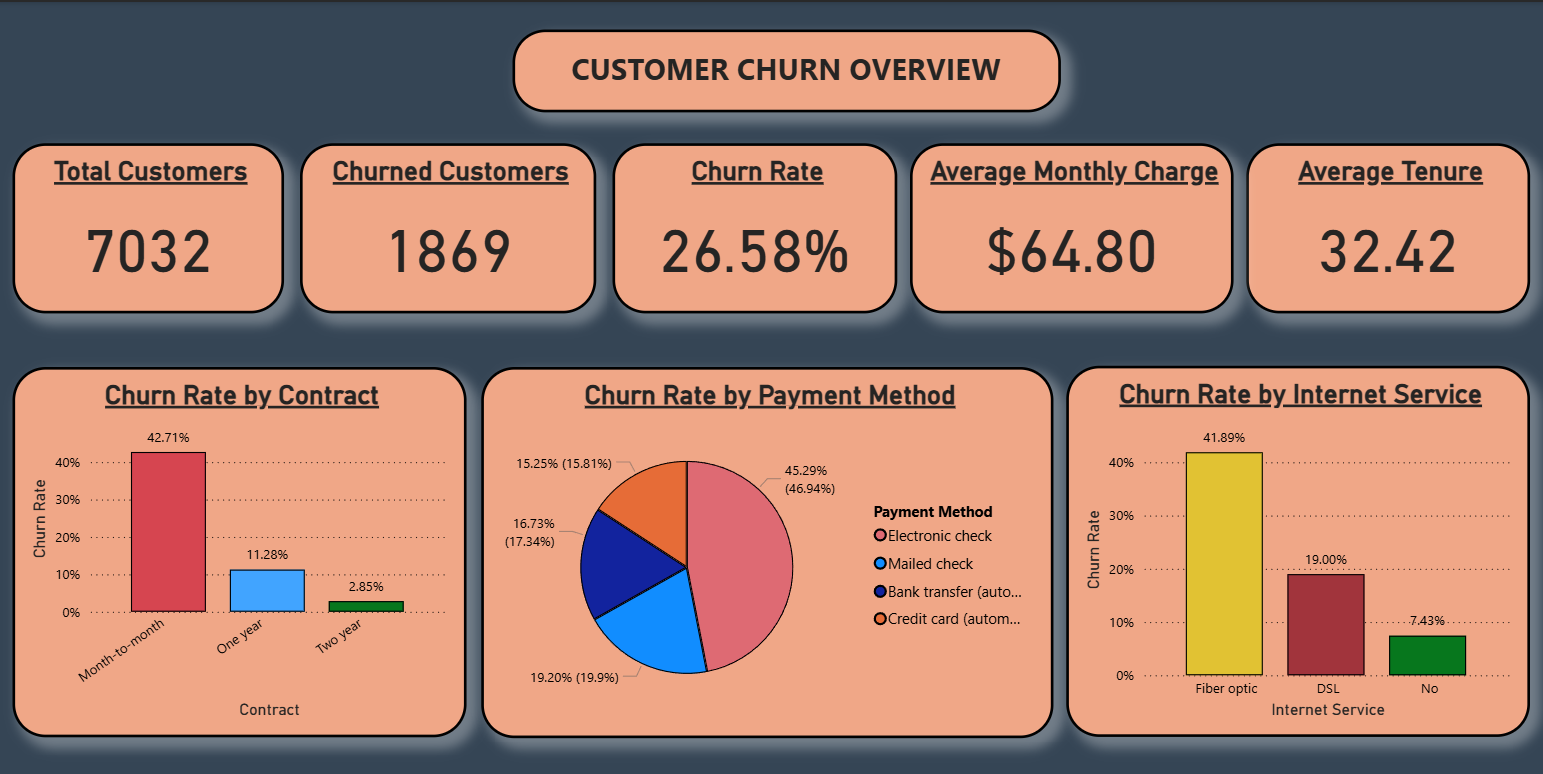

The dashboard page shown, as its layout file describes it:
{"tool":"powerbi","page":{"name":"Customer Churn Overview","canvas":[1400,720],"ordinal":0},"visuals":[{"type":"card","title":"Total Customers","fields":{"Values":["CountNonNull(telco_churn_for_powerbi.Churn_Actual)"]},"box":[11.3,128.3,246.1,154.3],"z":0},{"type":"card","title":"Churned Customers","fields":{"Values":["Sum(telco_churn_for_powerbi.Churn_Actual)"]},"box":[272.2,128.3,268.8,154.3],"z":1000},{"type":"card","title":"Churn Rate","fields":{"Values":["telco_churn_for_powerbi.overallchurnrate"]},"box":[555.8,128.3,258.6,154.3],"z":2000},{"type":"columnChart","title":"Churn Rate by Contract","fields":{"Category":["telco_churn_for_powerbi.Contract"],"Y":["telco_churn_for_powerbi.overallchurnrate"]},"box":[11,331.7,411.8,336.1],"z":3000},{"type":"pieChart","title":"Churn Rate by Payment Method","fields":{"Category":["telco_churn_for_powerbi.PaymentMethod"],"Y":["telco_churn_for_powerbi.overallchurnrate"]},"box":[436.7,331.2,519.5,336.9],"z":4000},{"type":"clusteredColumnChart","title":"Churn Rate by Internet Service","fields":{"Y":["telco_churn_for_powerbi.overallchurnrate"],"Category":["telco_churn_for_powerbi.InternetService"]},"box":[967.5,330.1,420.8,336.9],"z":5000},{"type":"card","title":"Average Tenure","fields":{"Values":["Avg(telco_churn_for_powerbi.tenure)"]},"box":[1130.8,128.2,257.5,154.3],"z":6000},{"type":"card","title":"Average Monthly Charge","fields":{"Values":["Avg(telco_churn_for_powerbi.MonthlyCharges)"]},"box":[825.7,128.3,293.8,154.3],"z":7000},{"type":"textbox","box":[465,25,497.9,74.9],"z":8000}]}

Visuals, with their boxes in screenshot pixels (x1, y1, x2, y2), scaled from the page's 1400x720 canvas onto the 1543x774 screenshot:
"Total Customers" card: 12,138,284,304
"Churned Customers" card: 300,138,596,304
"Churn Rate" card: 613,138,898,304
"Churn Rate by Contract" columnChart: 12,357,466,718
"Churn Rate by Payment Method" pieChart: 481,356,1054,718
"Churn Rate by Internet Service" clusteredColumnChart: 1066,355,1530,717
"Average Tenure" card: 1246,138,1530,304
"Average Monthly Charge" card: 910,138,1234,304
textbox: 512,27,1061,107
